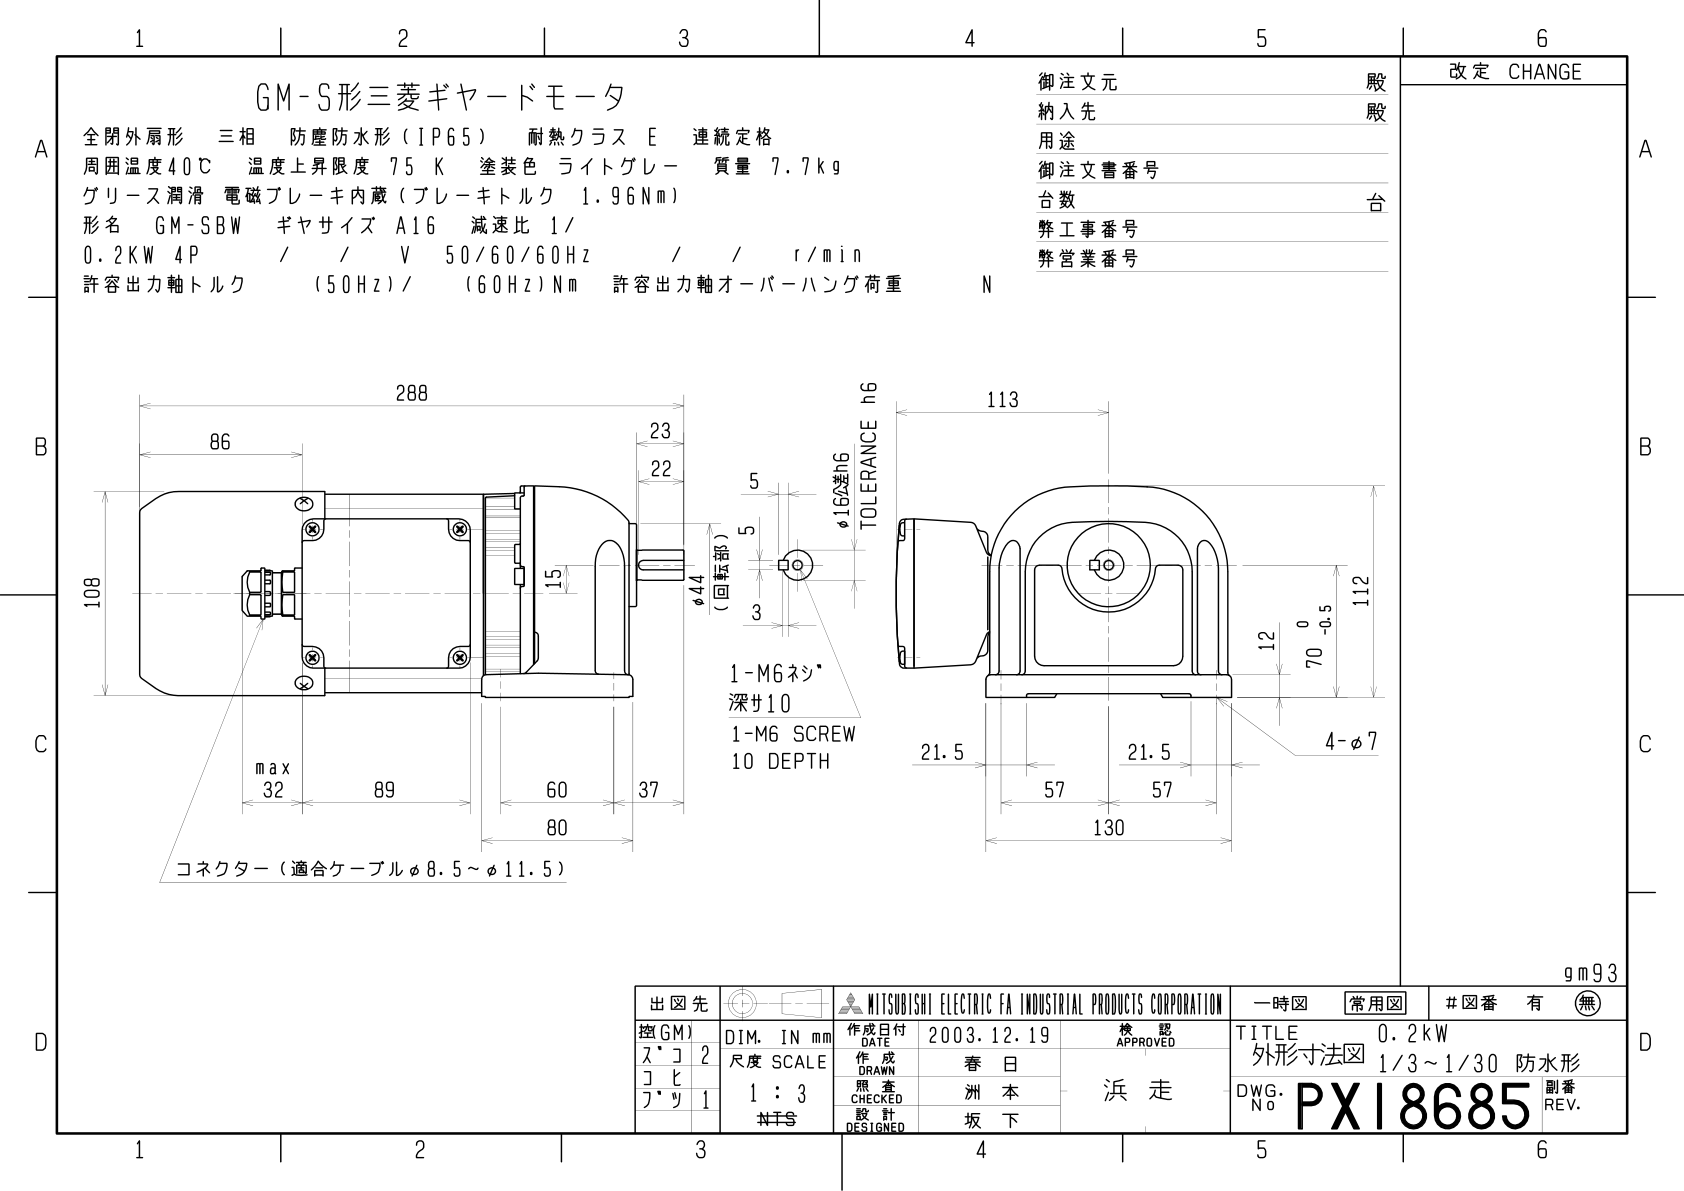GM_S_IP65＿三相_脚: (73, 324, 1397, 965)
